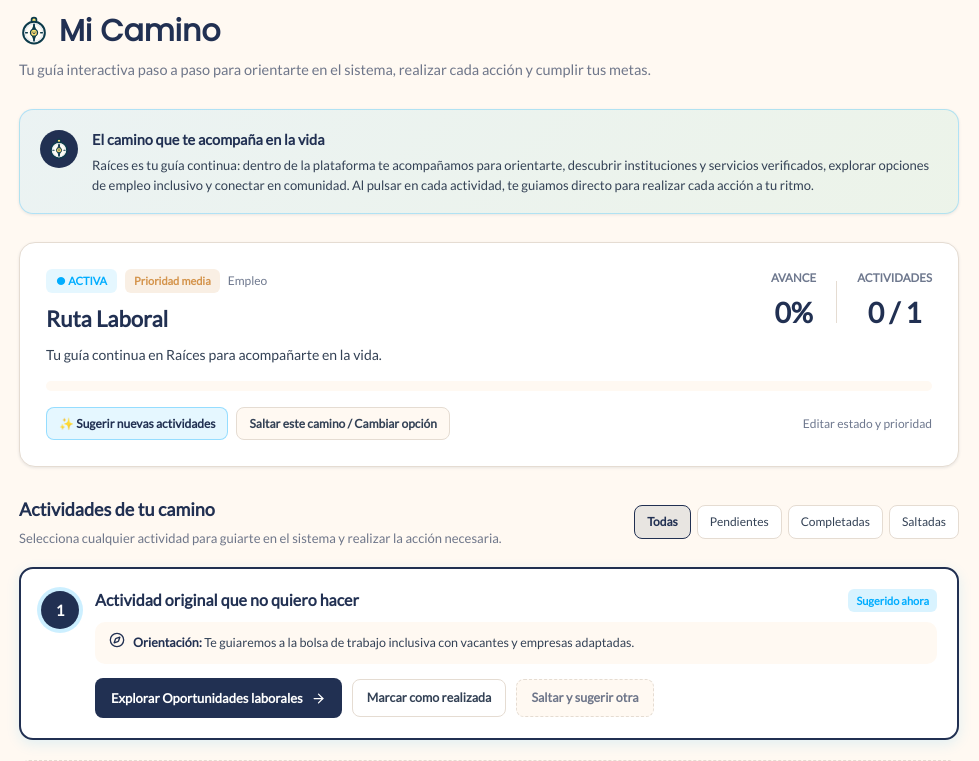
Test case: RutasPage — motor de recomendación automatizado › permite saltar una actividad que no quiera hacer y sugiere inmediatamente otra en su lugar
This screenshot has width=979, height=761.
Expected: the heading "Actividad original que no quiero hacer" is shown, [95,589,359,610]
Click the button "Saltar y sugerir otra" at (585, 698), box [516,679,654,717]
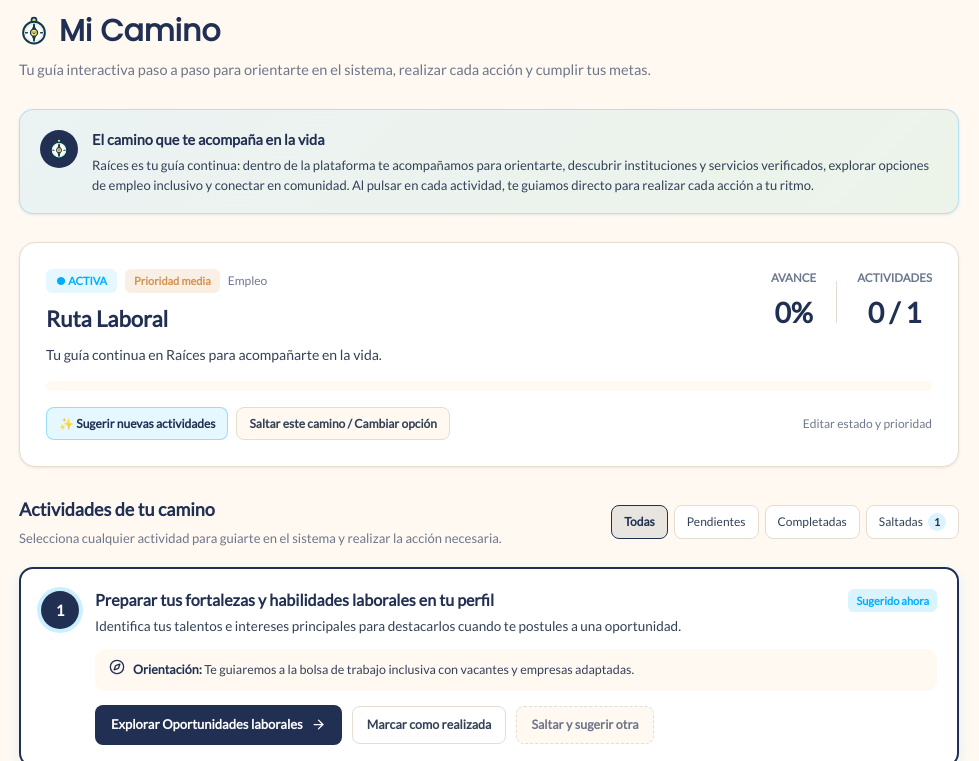
Expected: the heading "Actividad original que no quiero hacer" is gone
